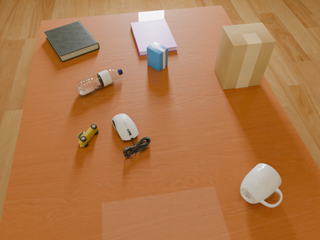book: (44, 21, 99, 62), (131, 19, 177, 55)
bottle: (76, 69, 123, 96)
box: (214, 23, 276, 89), (146, 42, 168, 71)
cup: (240, 164, 282, 207)
mouse: (112, 114, 138, 141)
toy_car: (78, 124, 98, 147)
